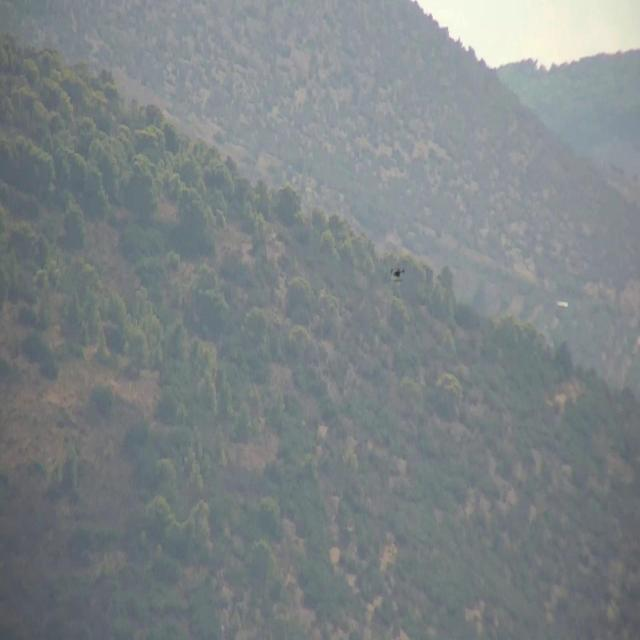drone: (388, 260, 410, 286)
